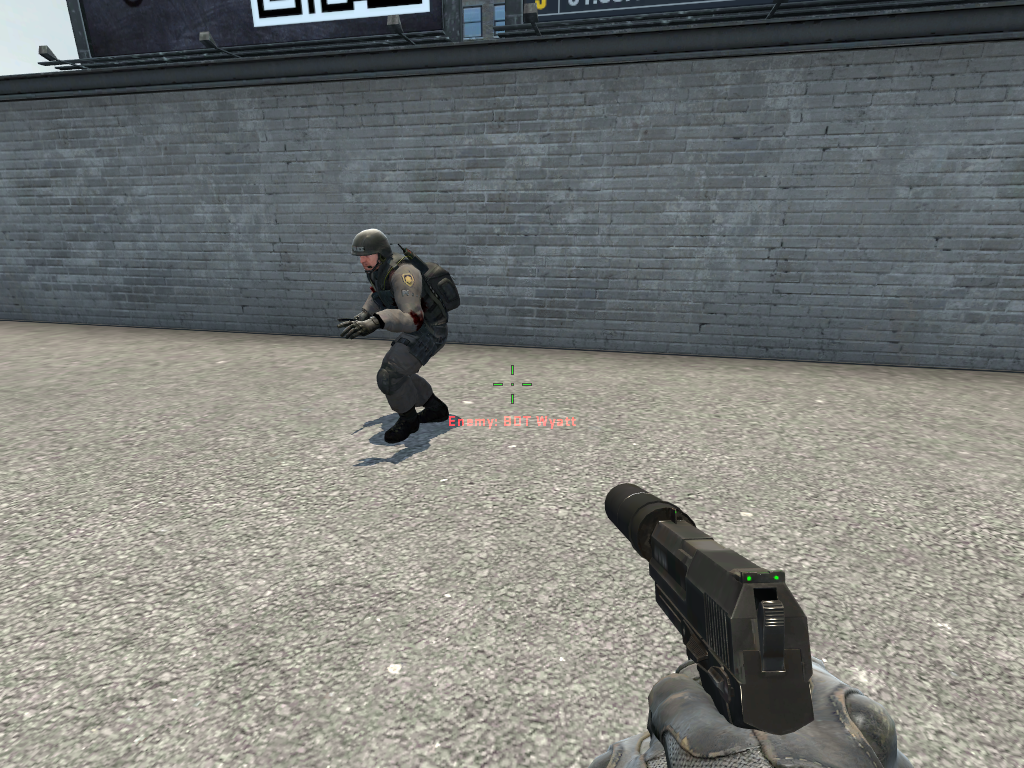ct head: (347, 224, 396, 278)
